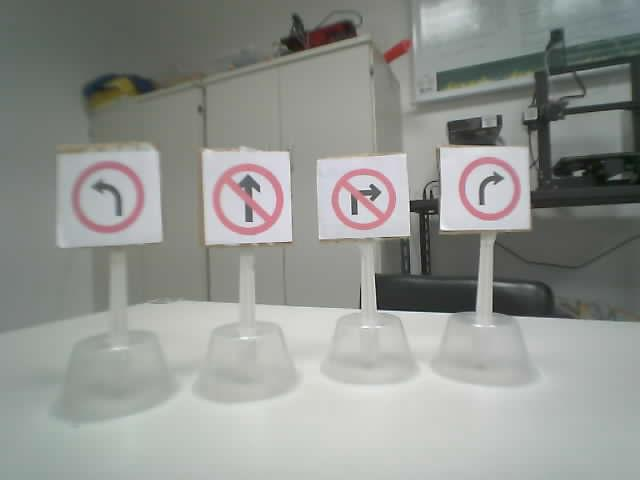R-25a_esquerda: (71, 160, 145, 234)
R-25b_direita: (456, 156, 521, 220)
R-3_sentido-proibido: (212, 162, 283, 235)
R-4b_proibido-direita: (329, 167, 395, 230)
